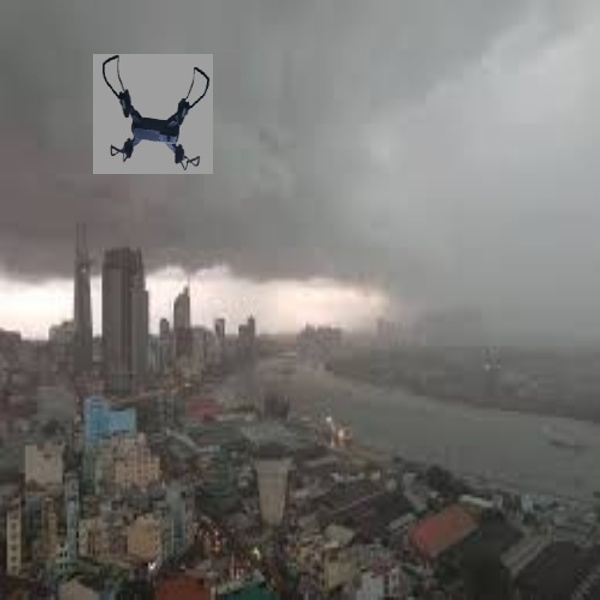drone: (99, 53, 212, 174)
